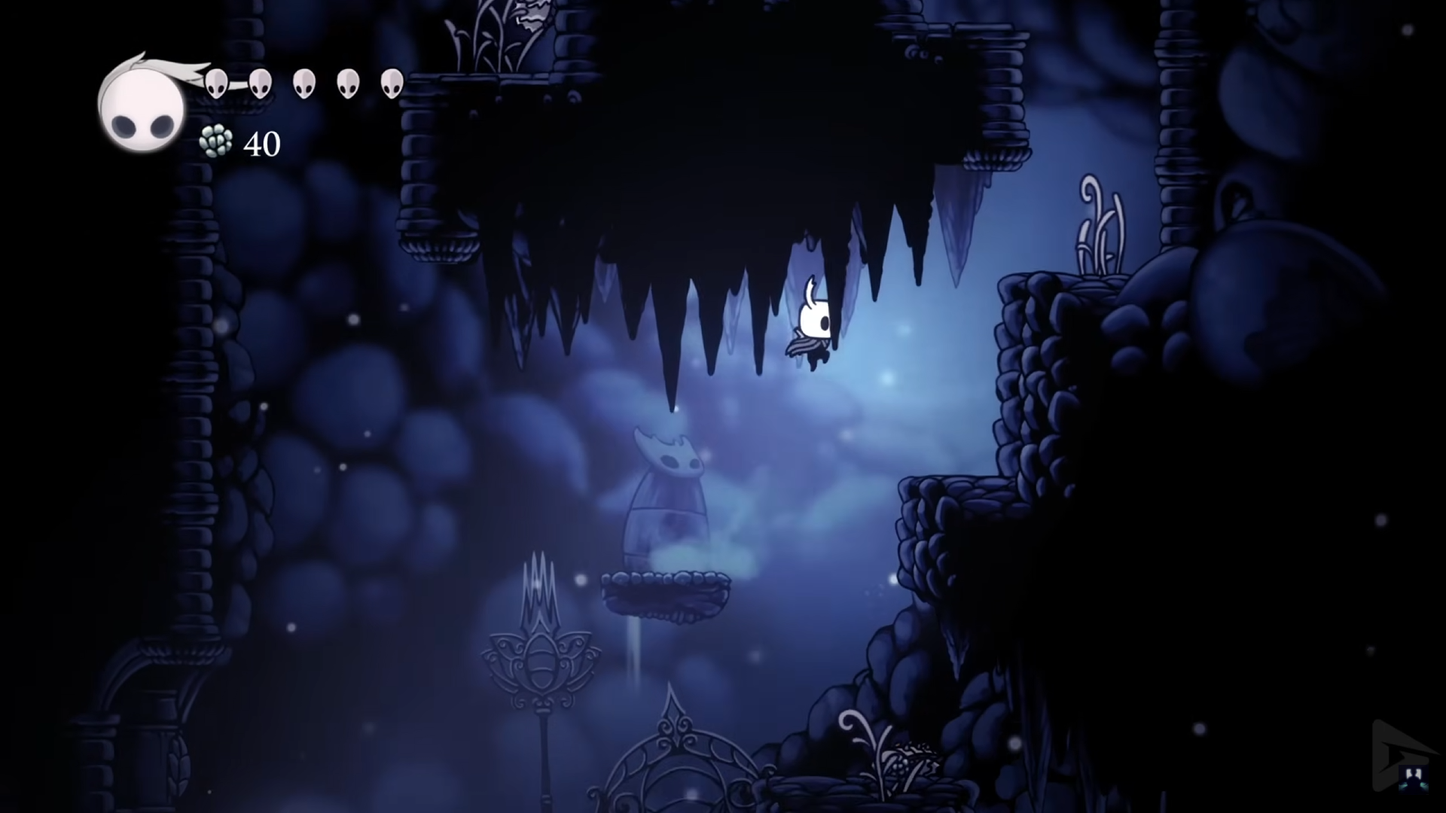HK: (782, 277, 845, 375)
